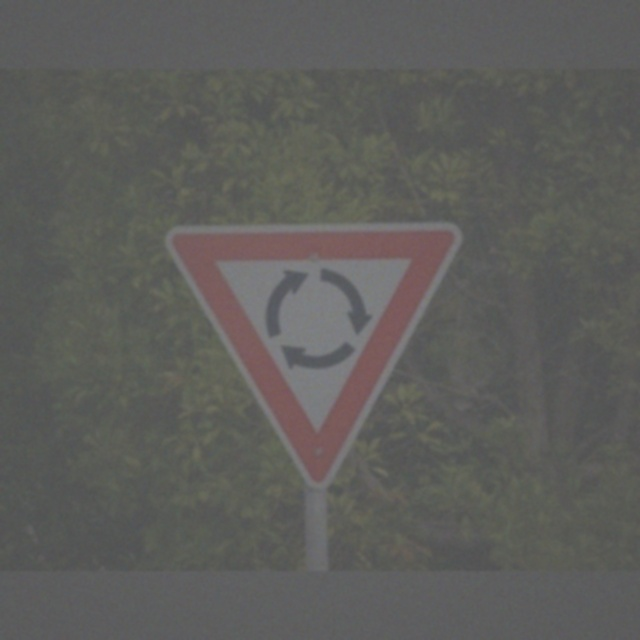Round_About: (170, 213, 460, 485)
